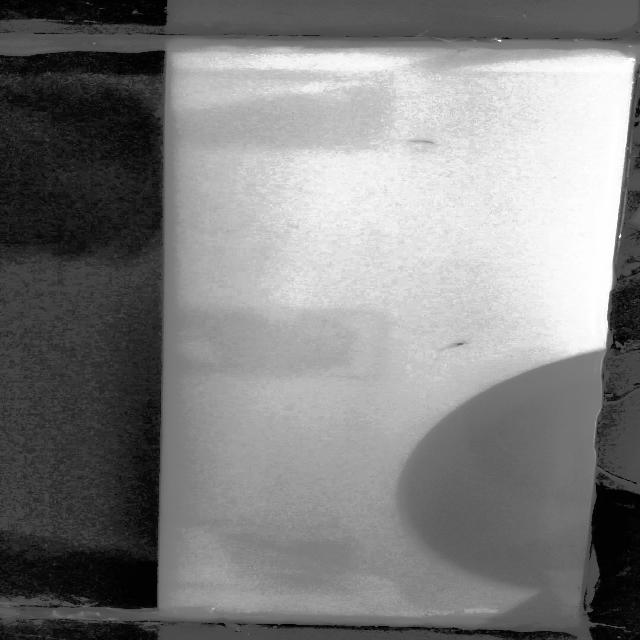shrimp: (439, 338, 472, 352)
